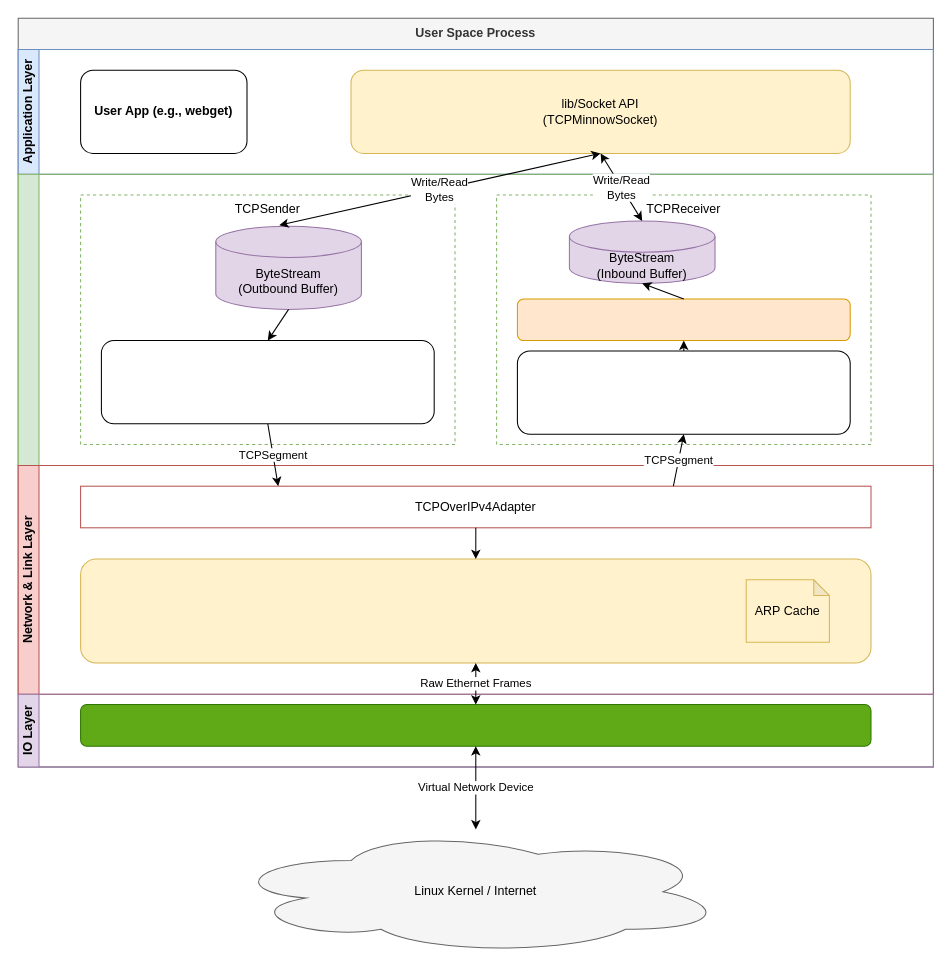
Image size: 952x972. Some labels were removed from this diagram. The box of each missing label's shape, as (x1, y1, x2, y2) in pixels:
NetworkInterface (ARP, Ethernet): (80, 558, 871, 663)
Reassembler: (516, 298, 850, 341)
TCPReceiver Logic (Window Mgmt): (516, 350, 850, 434)
TCPSender Logic (State Machine): (100, 340, 434, 424)
Transport Layer (TCPPeer): (17, 173, 933, 465)
TunTapFD (File Descriptor): (80, 704, 871, 746)
